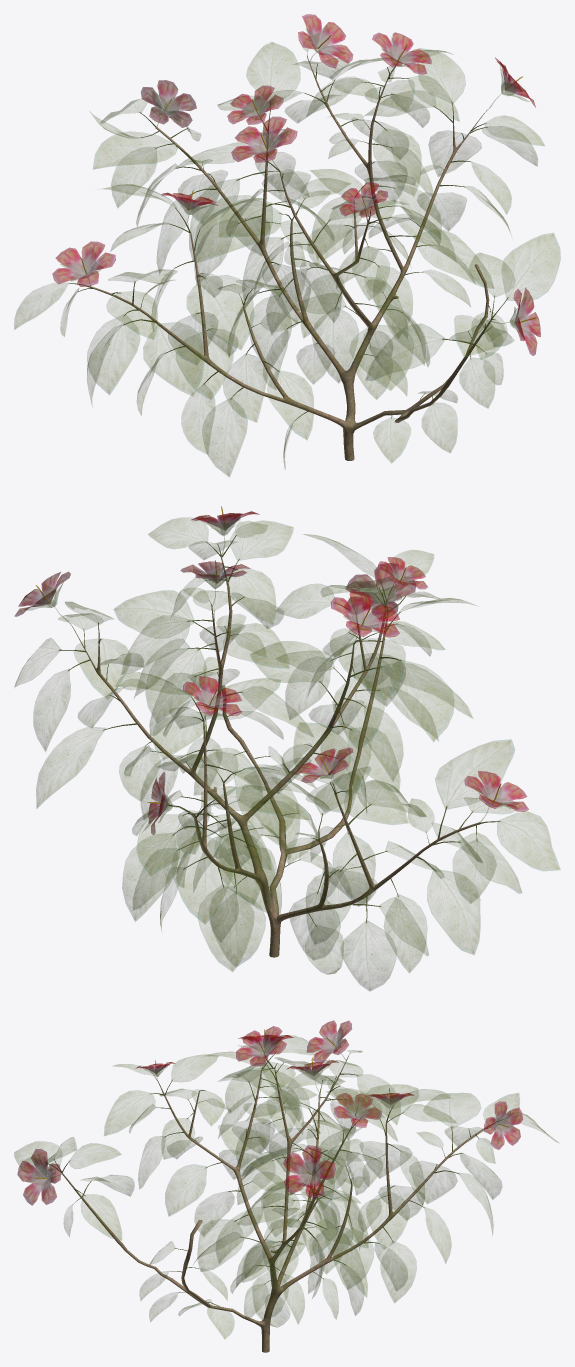
File: preview.glb
3 views of the same model, one above another, from view 1: azimuth 30°, elevation 25°; view 2: azimuth 150°, elevation 25°; view 3: azimuth 270°, elevation 25° (orthographic). The views are drawn at different scales.
Visible parts, largest first — view 1: Plant_Hibiscus_rosa_sinensis_A_Leaf_glb, Plant_Hibiscus_rosa_sinensis_A_Flower_glb, Plant_Hibiscus_rosa_sinensis_A_Bark_glb, Plant_Hibiscus_rosa_sinensis_A_Stem_glb; view 2: Plant_Hibiscus_rosa_sinensis_A_Leaf_glb, Plant_Hibiscus_rosa_sinensis_A_Flower_glb, Plant_Hibiscus_rosa_sinensis_A_Bark_glb, Plant_Hibiscus_rosa_sinensis_A_Stem_glb; view 3: Plant_Hibiscus_rosa_sinensis_A_Leaf_glb, Plant_Hibiscus_rosa_sinensis_A_Flower_glb, Plant_Hibiscus_rosa_sinensis_A_Bark_glb, Plant_Hibiscus_rosa_sinensis_A_Stem_glb.
Boxes of the visible parts, x1,y1,x2,y2 form: Plant_Hibiscus_rosa_sinensis_A_Leaf_glb: (14, 25, 560, 477); Plant_Hibiscus_rosa_sinensis_A_Flower_glb: (52, 14, 540, 355); Plant_Hibiscus_rosa_sinensis_A_Bark_glb: (91, 56, 491, 460); Plant_Hibiscus_rosa_sinensis_A_Stem_glb: (69, 51, 508, 420); Plant_Hibiscus_rosa_sinensis_A_Leaf_glb: (14, 517, 560, 991); Plant_Hibiscus_rosa_sinensis_A_Flower_glb: (14, 506, 528, 834); Plant_Hibiscus_rosa_sinensis_A_Bark_glb: (74, 557, 480, 957); Plant_Hibiscus_rosa_sinensis_A_Stem_glb: (59, 535, 499, 926); Plant_Hibiscus_rosa_sinensis_A_Leaf_glb: (14, 1028, 558, 1339); Plant_Hibiscus_rosa_sinensis_A_Flower_glb: (17, 1020, 522, 1205); Plant_Hibiscus_rosa_sinensis_A_Bark_glb: (61, 1056, 488, 1352); Plant_Hibiscus_rosa_sinensis_A_Stem_glb: (45, 1053, 506, 1306).
Bounding box in the file's own units: 1.6 × 1.22 × 1.79.
Materials: 4 (3 with a texture image).
